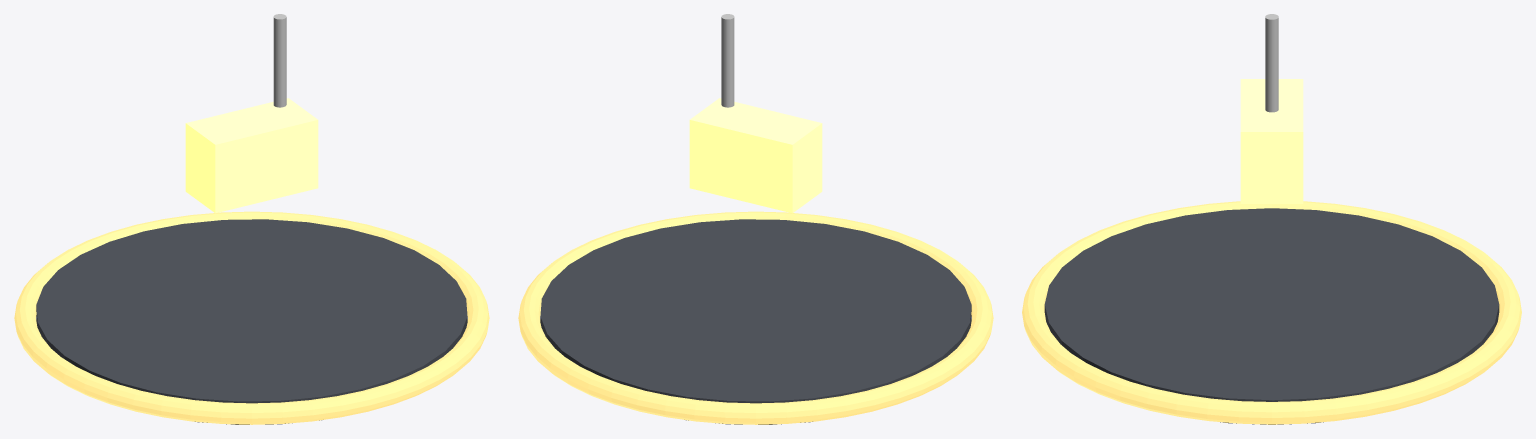
Rendered from channel_radio.glb.
3 renders of one model, left to right at view 1: azimuth 30°, elevation 25°; view 2: azimuth 150°, elevation 25°; view 3: azimuth 270°, elevation 25°, orthographic. The views are drawn at different scales.
Parts seen in each view (by area): view 1: radio_base, radio_glow, radio_emblem; view 2: radio_base, radio_glow, radio_emblem; view 3: radio_base, radio_glow, radio_emblem.
Part boxes in pixels (x1,y1,x2,y2): radio_base: (36, 219, 467, 424); radio_glow: (14, 211, 489, 424); radio_emblem: (185, 14, 318, 213); radio_base: (540, 219, 971, 424); radio_glow: (518, 211, 993, 424); radio_emblem: (689, 14, 822, 213); radio_base: (1044, 208, 1499, 424); radio_glow: (1022, 201, 1521, 424); radio_emblem: (1240, 14, 1303, 203).
Size of the model in its own units: 2.2 by 1.58 by 2.2.
